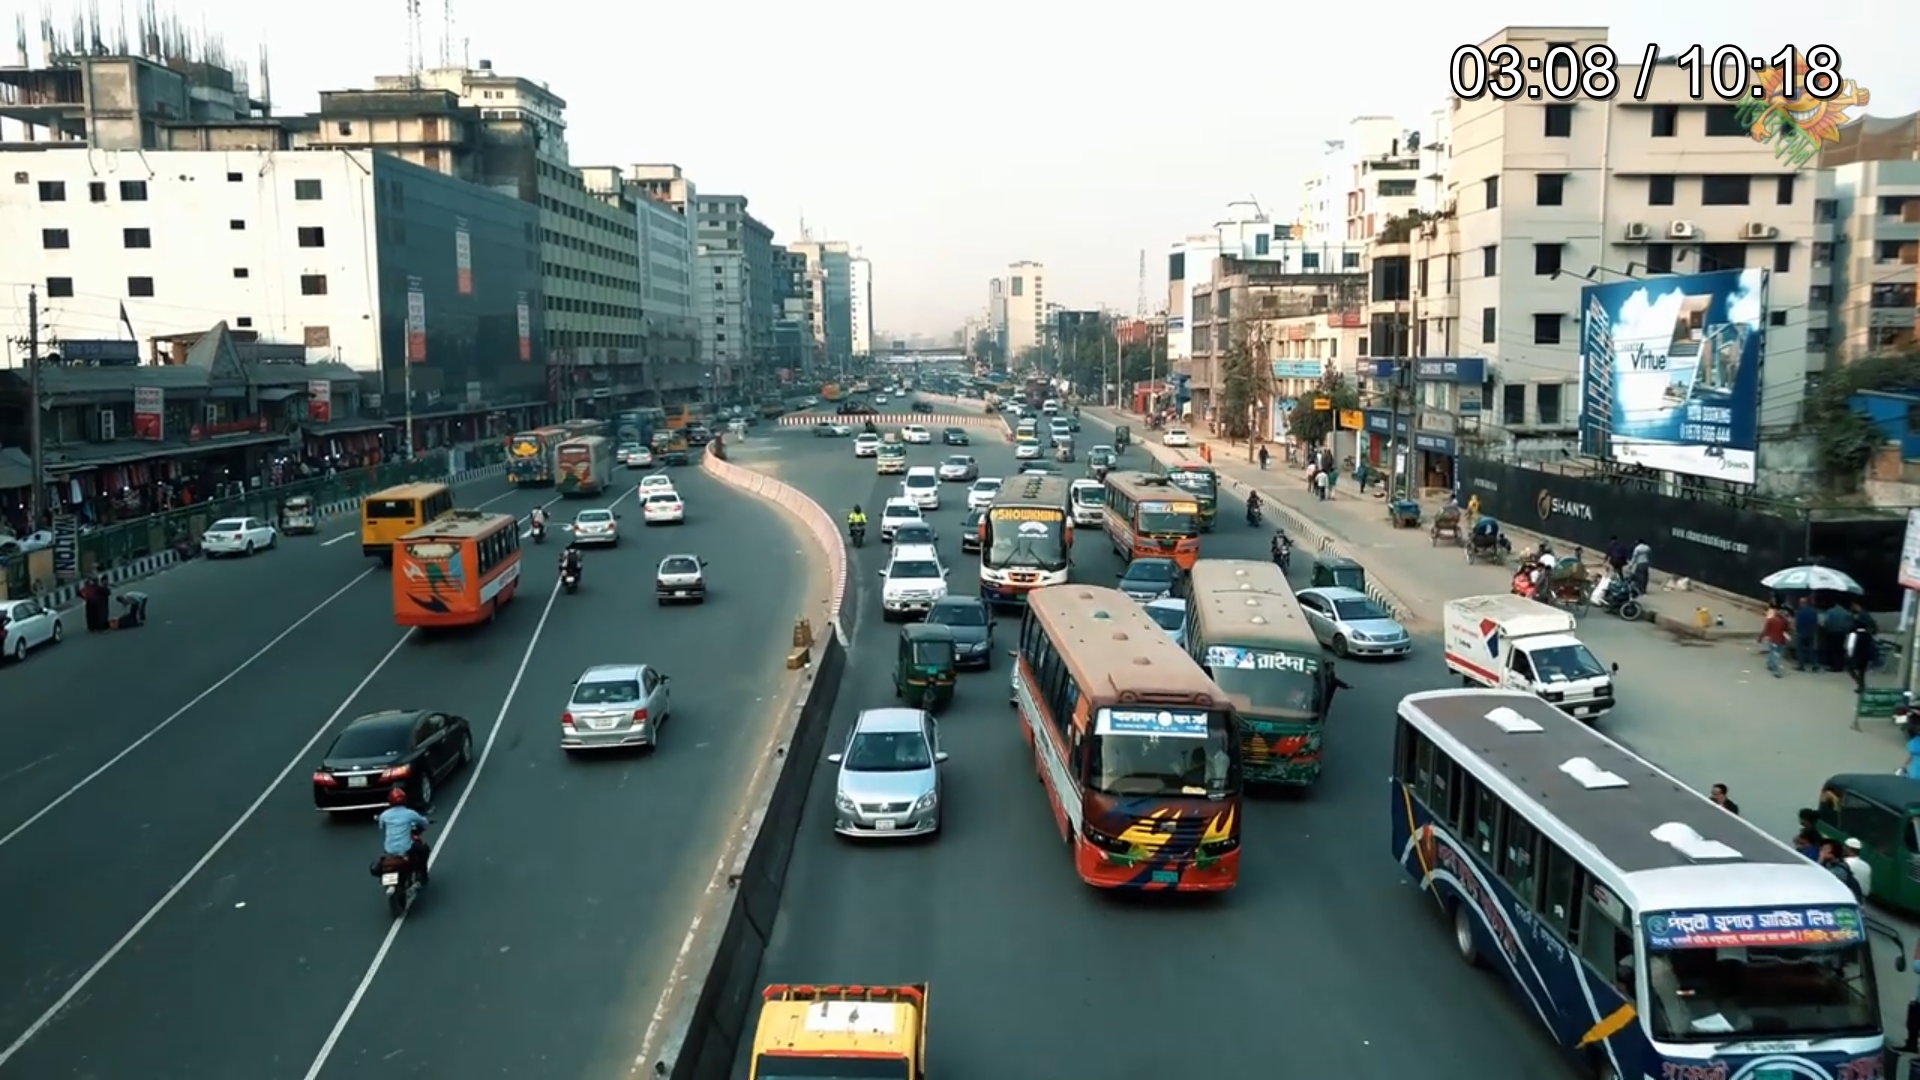HeavyVehicle: (1385, 675, 1920, 1080), (1007, 584, 1245, 916)
MotorCycle: (371, 785, 436, 928), (556, 541, 587, 603), (843, 501, 872, 550), (529, 501, 545, 546), (1240, 498, 1258, 533)
